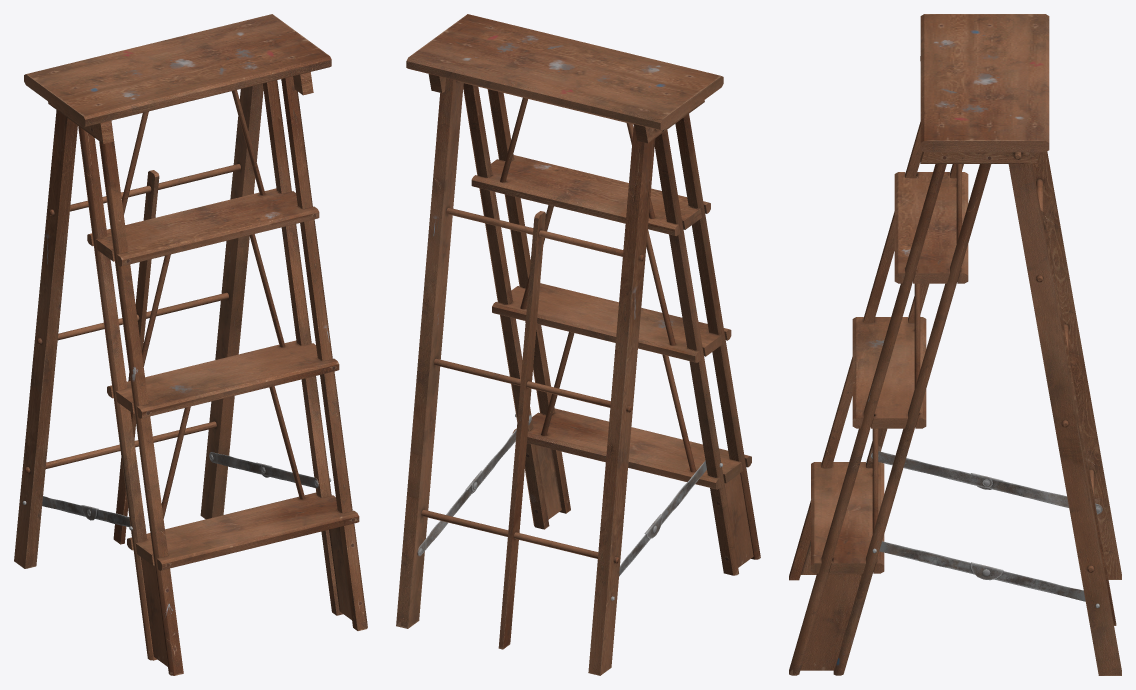
File: Ladder_SM.fbx
3 views of the same model, side by side, from view 1: azimuth 30°, elevation 25°; view 2: azimuth 150°, elevation 25°; view 3: azimuth 270°, elevation 25° (orthographic). The views are drawn at different scales.
Visible parts, largest first — view 1: Ladder_SM; view 2: Ladder_SM; view 3: Ladder_SM.
Boxes of the visible parts, left/top/right/bottom form: Ladder_SM: left=14, top=14, right=367, bottom=675; Ladder_SM: left=396, top=14, right=760, bottom=675; Ladder_SM: left=789, top=14, right=1121, bottom=675.
Size of the model in its own units: 0.6113 by 1.23 by 0.6775.
